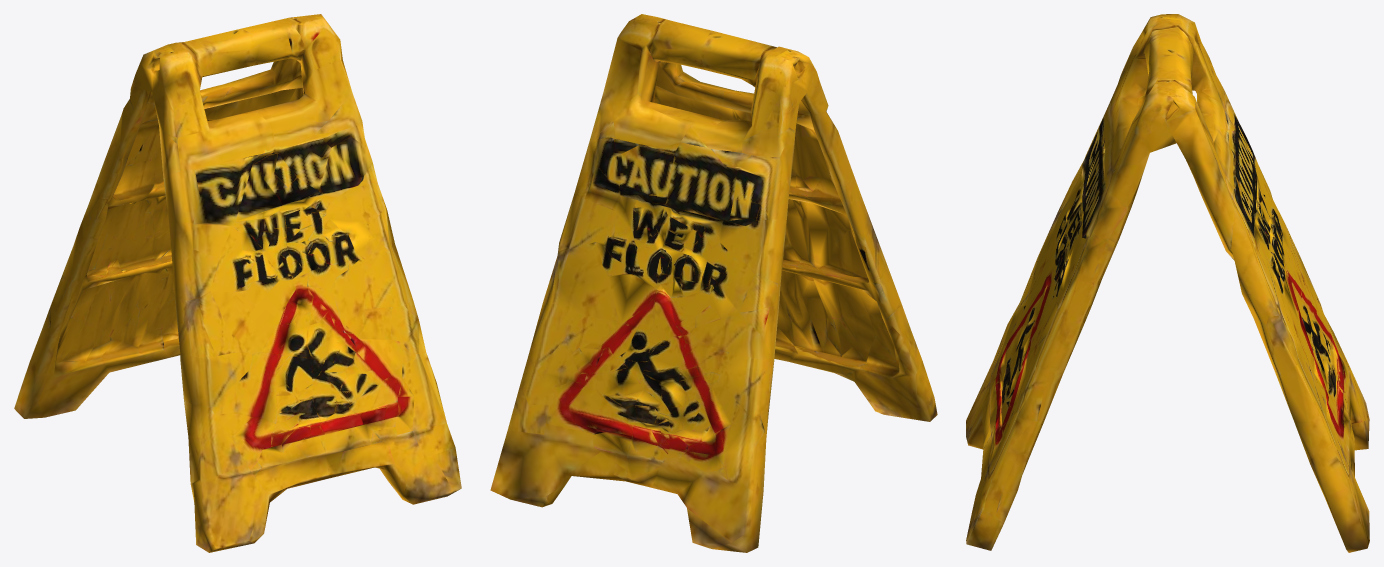
Rendered from d_wetsign.glb.
3 renders of one model, left to right at view 1: azimuth 30°, elevation 25°; view 2: azimuth 150°, elevation 25°; view 3: azimuth 270°, elevation 25°, orthographic. The views are drawn at different scales.
Size of the model in its own units: 1.22 by 1.9 by 1.59.
1 material, 1 textured.
